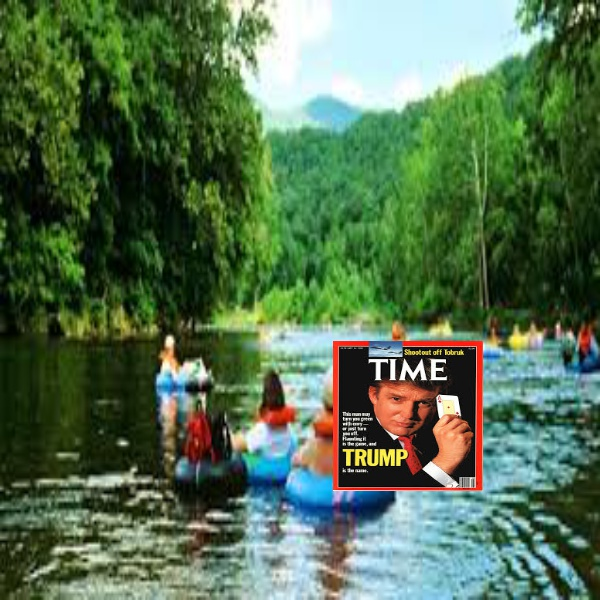time_cover: (327, 331, 485, 497)
